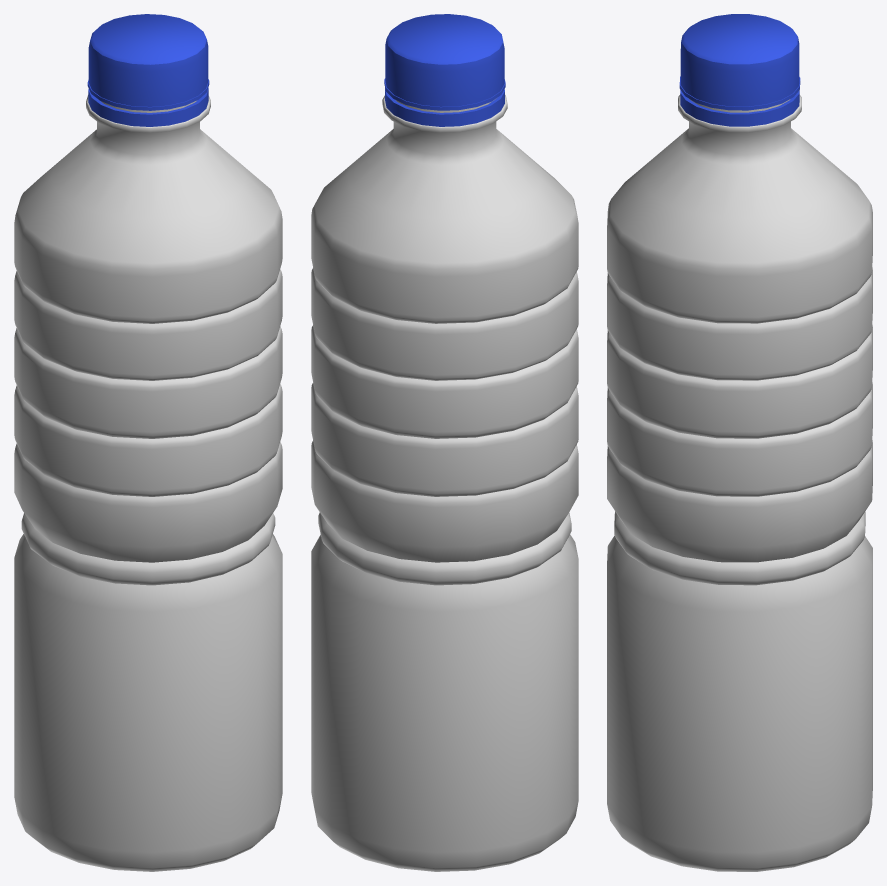
File: watter_bot.fbx
The picture shows the model from 3 angles, left to right: view 1: azimuth 30°, elevation 25°; view 2: azimuth 150°, elevation 25°; view 3: azimuth 270°, elevation 25°; orthographic projection.
Visible parts, largest first — view 1: Cylinder, Cylinder.001; view 2: Cylinder, Cylinder.001; view 3: Cylinder, Cylinder.001.
Boxes of the visible parts, <box> form: Cylinder: <box>14,95,282,871</box>; Cylinder.001: <box>87,14,209,126</box>; Cylinder: <box>311,95,578,871</box>; Cylinder.001: <box>384,14,505,126</box>; Cylinder: <box>607,94,872,871</box>; Cylinder.001: <box>679,14,800,126</box>.
Size of the model in its own units: 15.66 by 50.88 by 15.66.
